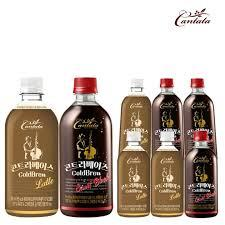contrabass_sweetblack: (58, 74, 113, 218), (184, 132, 220, 220)
